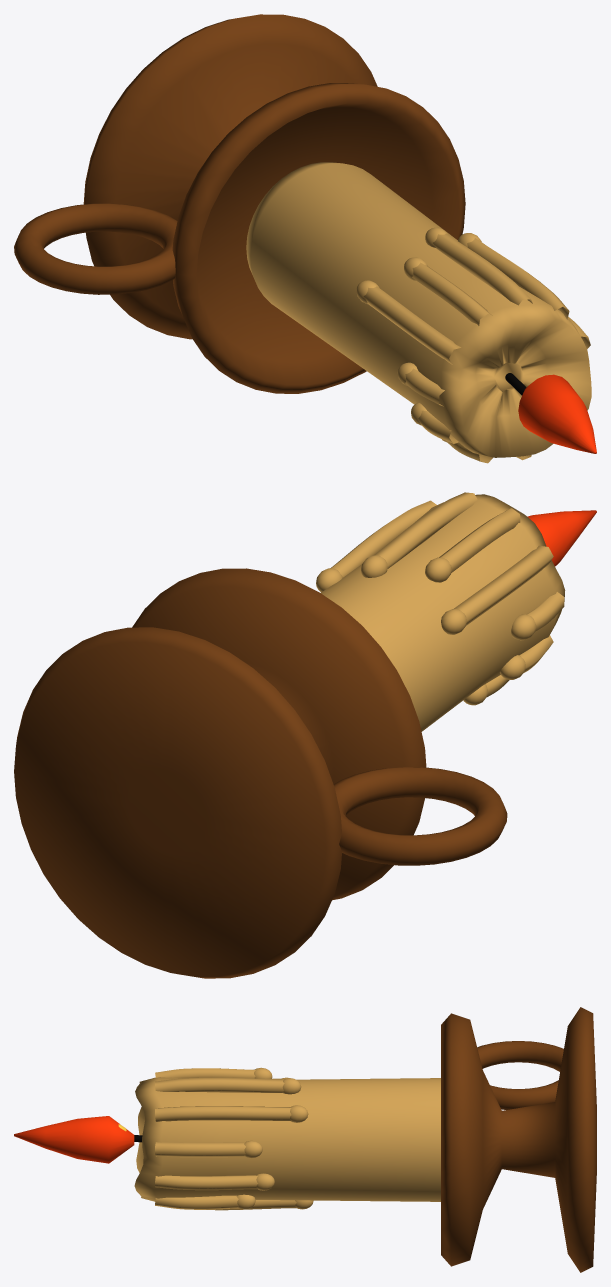
File: Candle.obj
3 renders of one model, top to bottom at view 1: azimuth 30°, elevation 25°; view 2: azimuth 150°, elevation 25°; view 3: azimuth 270°, elevation 25°, orthographic. The views are drawn at different scales.
Parts seen in each view (by area): view 1: Candleholder_Foot, Beeswax_Column, Holder_Finger_Loop, Separate_Flame, Wax_Drip.010, Wax_Drip.008, Wax_Drip.007, Wax_Drip.009, Wax_Drip, Wax_Drip.001; view 2: Candleholder_Foot, Beeswax_Column, Holder_Finger_Loop, Wax_Drip.010, Wax_Drip.008, Separate_Flame, Wax_Drip.007, Wax_Drip.009, Wax_Drip; view 3: Beeswax_Column, Candleholder_Foot, Separate_Flame, Holder_Finger_Loop, Wax_Drip.007, Wax_Drip.008, Wax_Drip.005, Wax_Drip.006, Wax_Drip.004, Wax_Drip.009, Wax_Drip.003.
Boxes of the visible parts, x1=… form: Candleholder_Foot: x1=83, y1=14, x2=465, y2=393; Beeswax_Column: x1=246, y1=162, x2=591, y2=457; Holder_Finger_Loop: x1=14, y1=203, x2=177, y2=294; Separate_Flame: x1=518, y1=374, x2=596, y2=453; Wax_Drip.010: x1=363, y1=286, x2=461, y2=364; Wax_Drip.008: x1=433, y1=233, x2=532, y2=305; Wax_Drip.007: x1=467, y1=238, x2=569, y2=319; Wax_Drip.009: x1=412, y1=262, x2=492, y2=325; Wax_Drip: x1=405, y1=368, x2=444, y2=406; Wax_Drip.001: x1=417, y1=410, x2=458, y2=443; Candleholder_Foot: x1=14, y1=568, x2=426, y2=978; Beeswax_Column: x1=321, y1=494, x2=565, y2=731; Holder_Finger_Loop: x1=333, y1=767, x2=507, y2=865; Wax_Drip.010: x1=454, y1=545, x2=553, y2=625; Wax_Drip.008: x1=374, y1=492, x2=477, y2=568; Separate_Flame: x1=527, y1=510, x2=596, y2=566; Wax_Drip.007: x1=330, y1=500, x2=436, y2=577; Wax_Drip.009: x1=439, y1=508, x2=520, y2=573; Wax_Drip: x1=526, y1=592, x2=564, y2=631; Beeswax_Column: x1=134, y1=1077, x2=440, y2=1201; Candleholder_Foot: x1=441, y1=1007, x2=596, y2=1272; Separate_Flame: x1=14, y1=1116, x2=134, y2=1163; Holder_Finger_Loop: x1=477, y1=1041, x2=563, y2=1109; Wax_Drip.007: x1=155, y1=1106, x2=291, y2=1121; Wax_Drip.008: x1=155, y1=1077, x2=284, y2=1092; Wax_Drip.005: x1=155, y1=1175, x2=258, y2=1190; Wax_Drip.006: x1=155, y1=1142, x2=245, y2=1157; Wax_Drip.004: x1=155, y1=1195, x2=238, y2=1209; Wax_Drip.009: x1=155, y1=1068, x2=255, y2=1078; Wax_Drip.003: x1=206, y1=1200, x2=296, y2=1210.
Bounding box in the file's own units: 0.279 × 0.21 × 0.46.
